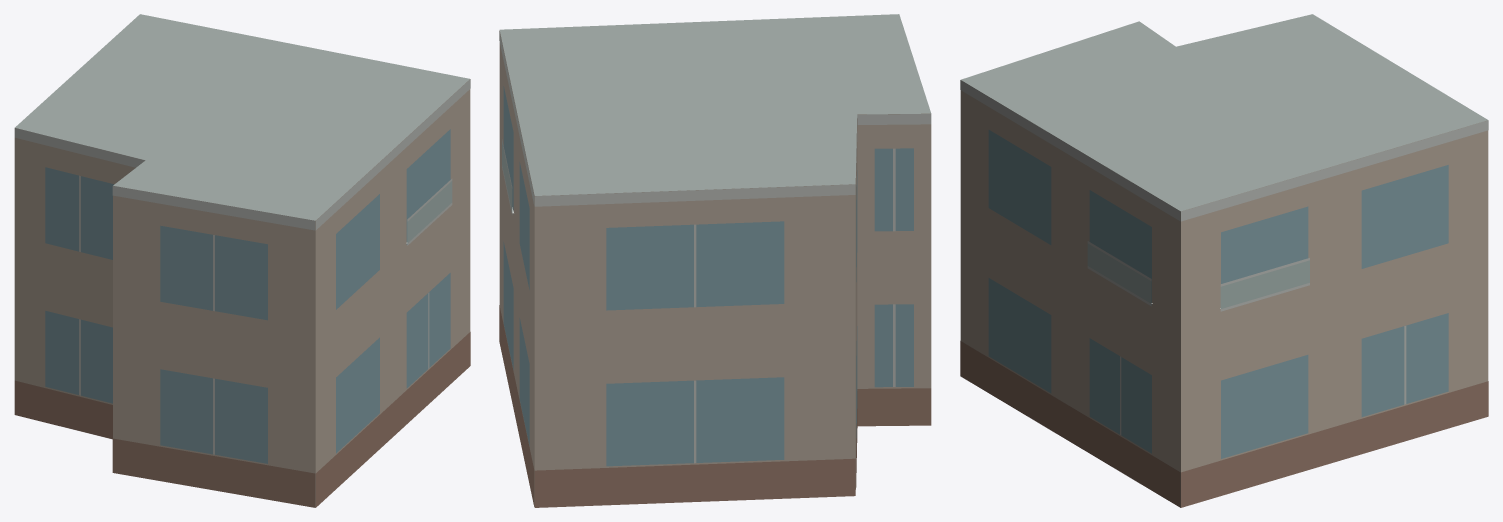
File: survey-upis-32535524.glb
The picture shows the model from 3 angles, left to right: view 1: azimuth 30°, elevation 25°; view 2: azimuth 150°, elevation 25°; view 3: azimuth 270°, elevation 25°; orthographic projection. The views are drawn at different scales.
Visible parts, largest first — view 1: survey-upis-32535524.tmp; view 2: survey-upis-32535524.tmp; view 3: survey-upis-32535524.tmp.
Part boxes in pixels (x1=…): survey-upis-32535524.tmp: x1=14, y1=14, x2=470, y2=507; survey-upis-32535524.tmp: x1=499, y1=14, x2=931, y2=507; survey-upis-32535524.tmp: x1=960, y1=14, x2=1488, y2=507.
Bounding box in the file's own units: 10.15 × 7.1 × 11.47.
